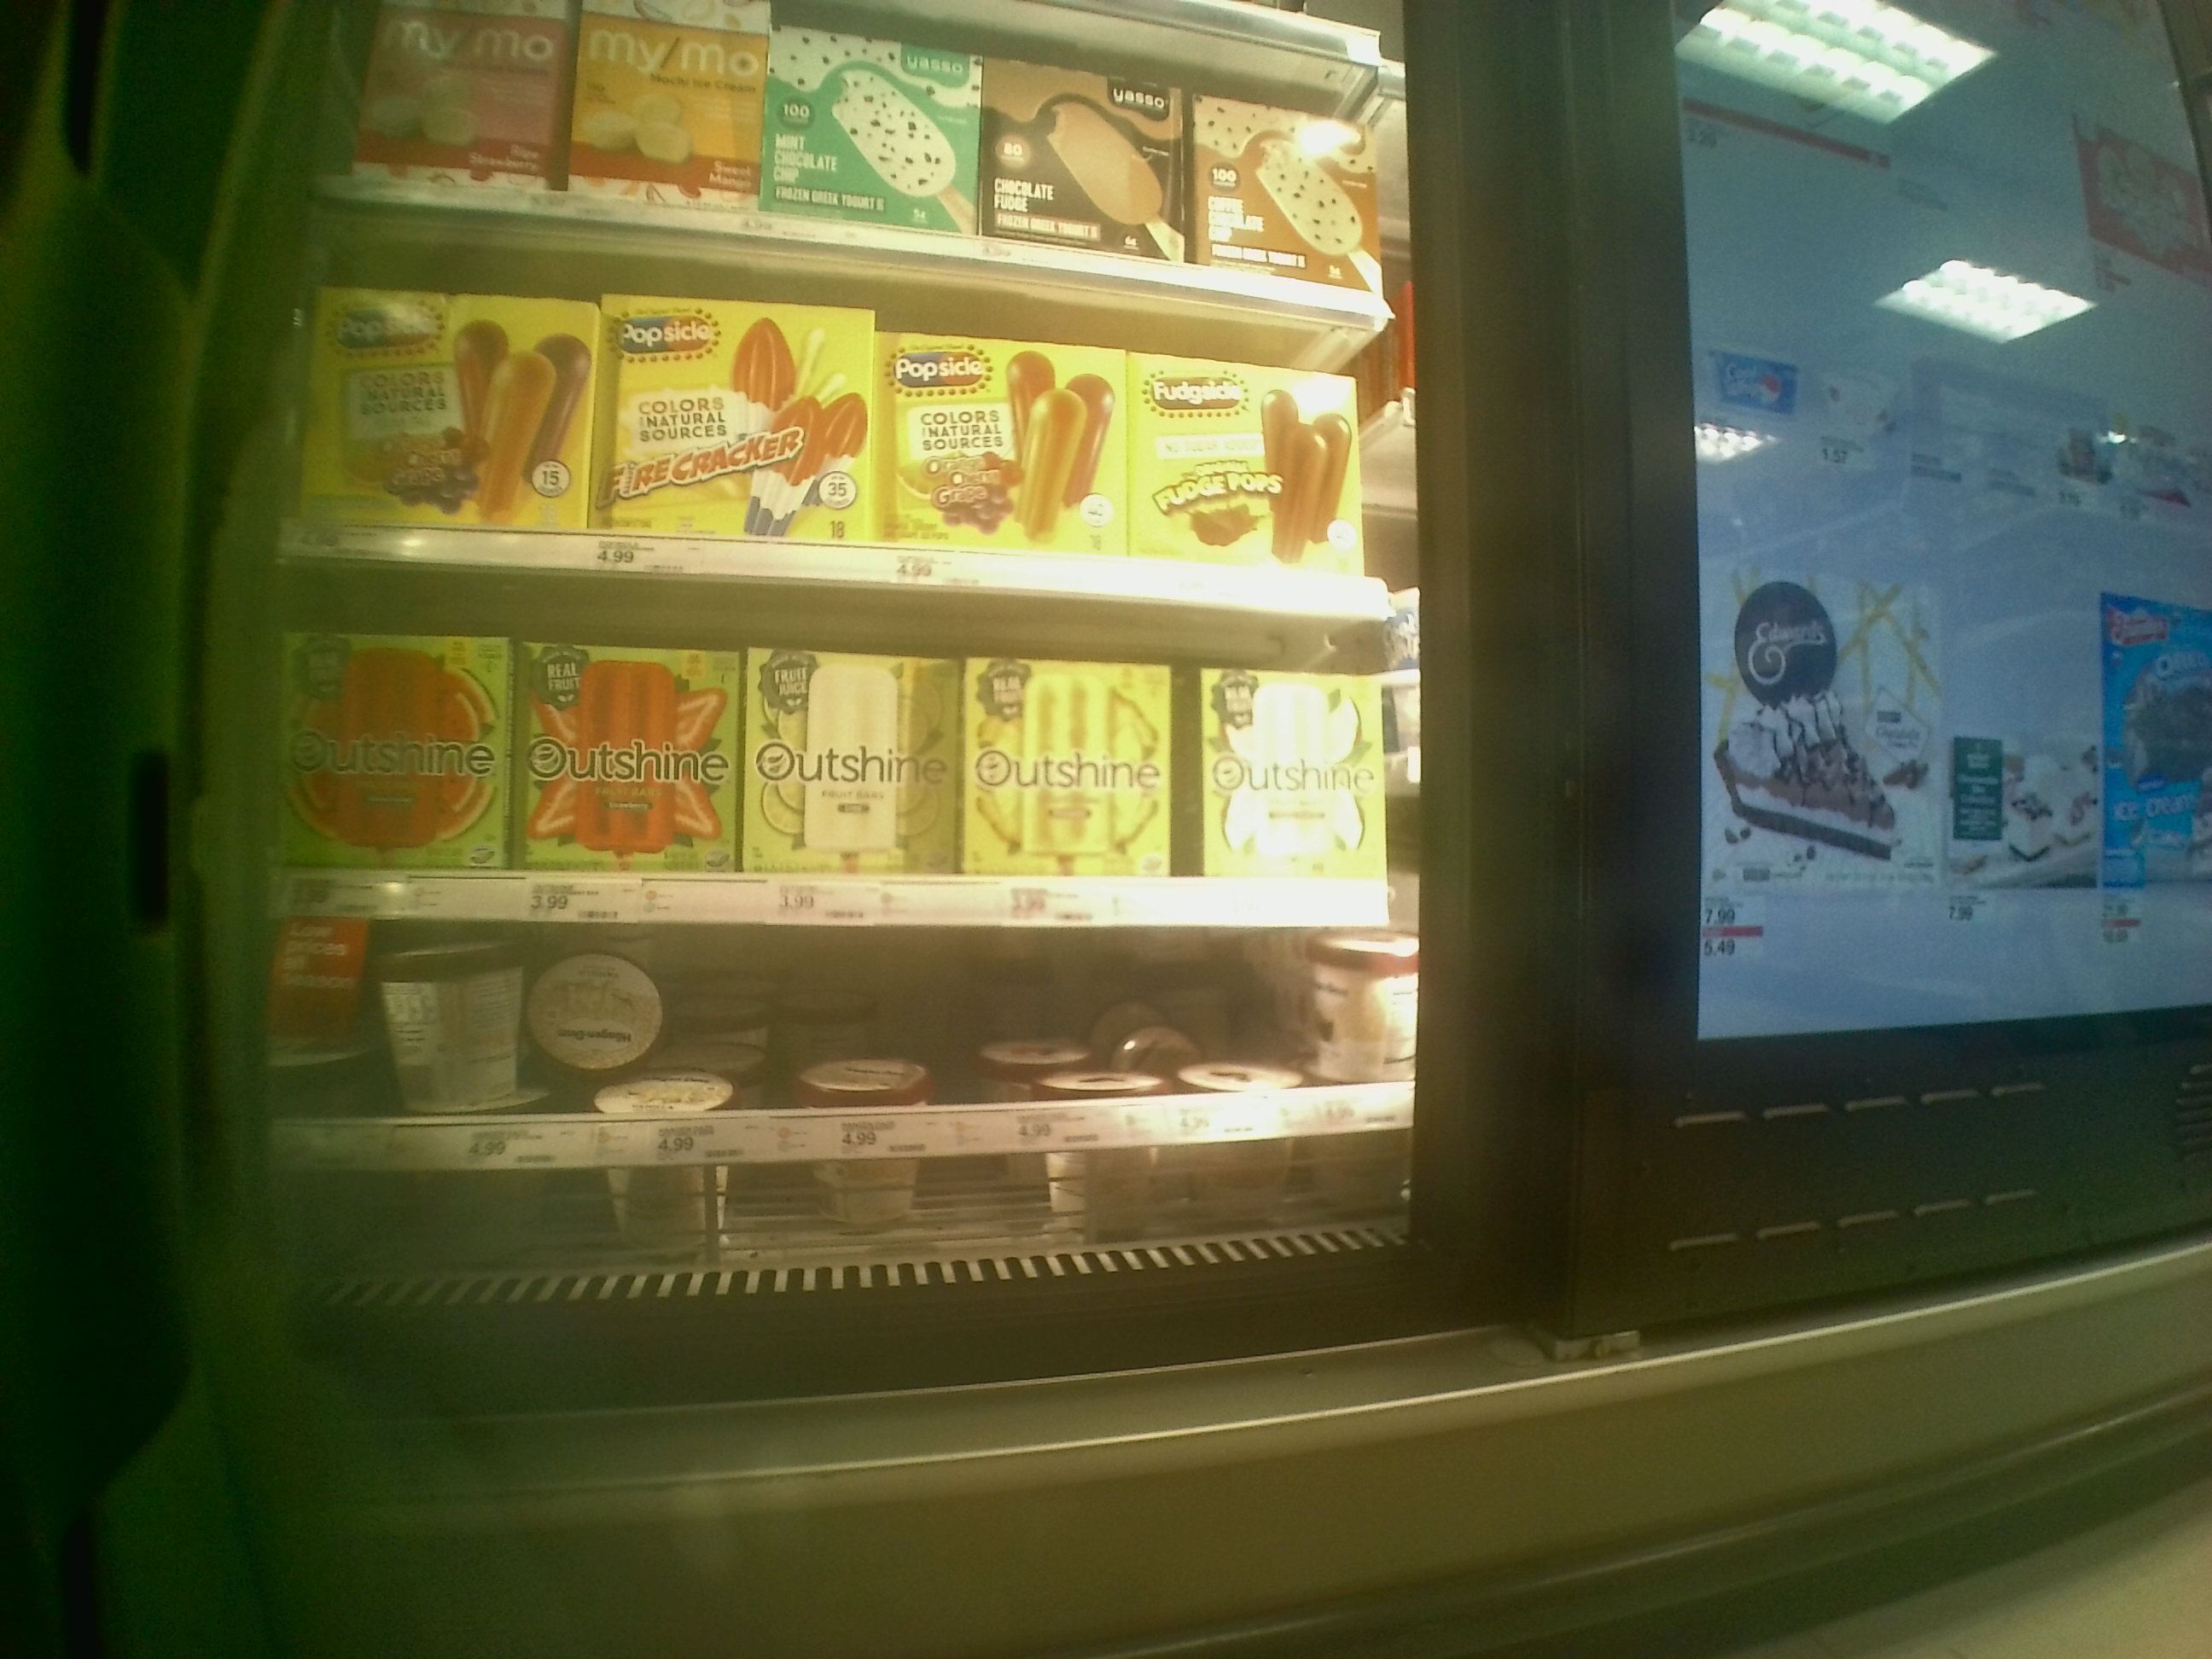ice-cream-shelf: (280, 563, 1406, 924), (268, 929, 1435, 1161)
